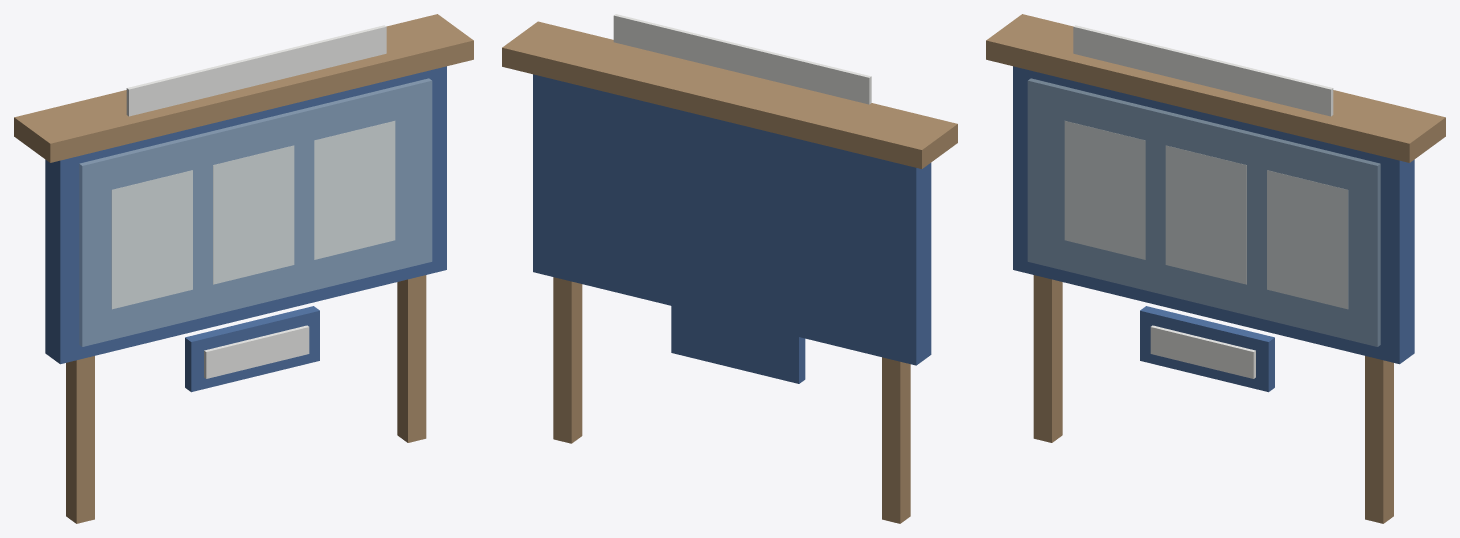
The model's file is marina-and-yacht-club-marina-and-yacht-club-club-notic-86b9575b__38335.glb.
The picture shows the model from 3 angles, left to right: view 1: azimuth 30°, elevation 25°; view 2: azimuth 150°, elevation 25°; view 3: azimuth 330°, elevation 25°; orthographic projection.
Visible parts, largest first — view 1: marina-and-yacht-club-club-notice-board; view 2: marina-and-yacht-club-club-notice-board; view 3: marina-and-yacht-club-club-notice-board.
Boxes of the visible parts, left/top/right/bottom form: marina-and-yacht-club-club-notice-board: left=14, top=14, right=473, bottom=523; marina-and-yacht-club-club-notice-board: left=502, top=14, right=957, bottom=523; marina-and-yacht-club-club-notice-board: left=986, top=14, right=1445, bottom=523.
Size of the model in its own units: 2.3 by 2.22 by 0.34.
